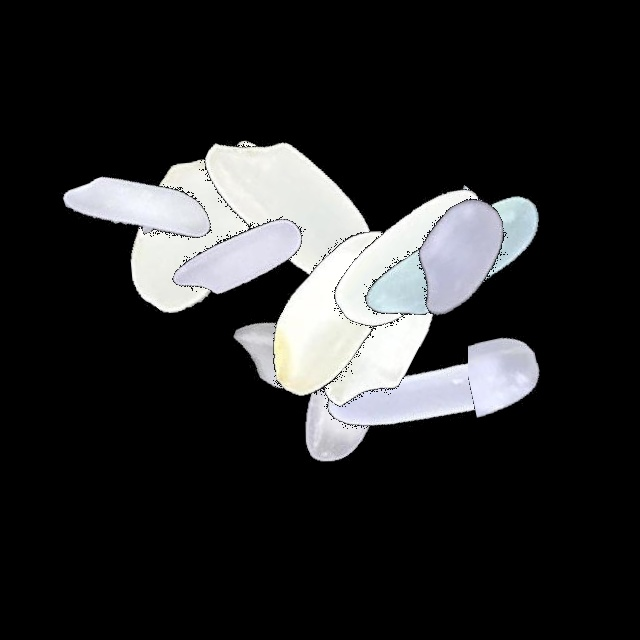Broken: (116, 267, 366, 406), (468, 243, 606, 493), (388, 124, 507, 374), (206, 204, 456, 282)
Full: (218, 266, 468, 516), (304, 266, 554, 516), (75, 101, 325, 351), (163, 78, 413, 328), (115, 131, 365, 381), (258, 207, 508, 457), (213, 187, 463, 437), (290, 135, 540, 385), (328, 130, 578, 380), (12, 85, 262, 335), (335, 128, 585, 378)
